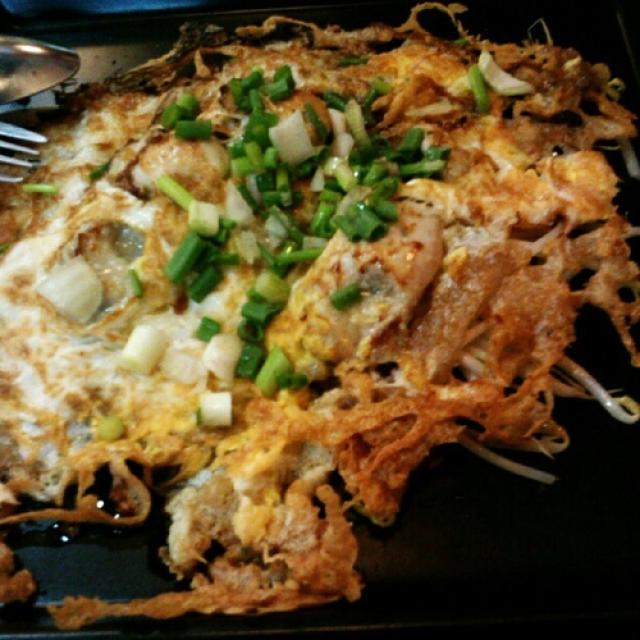炸货点心: (9, 21, 621, 616)
蛋糕甜品: (9, 21, 621, 616)
